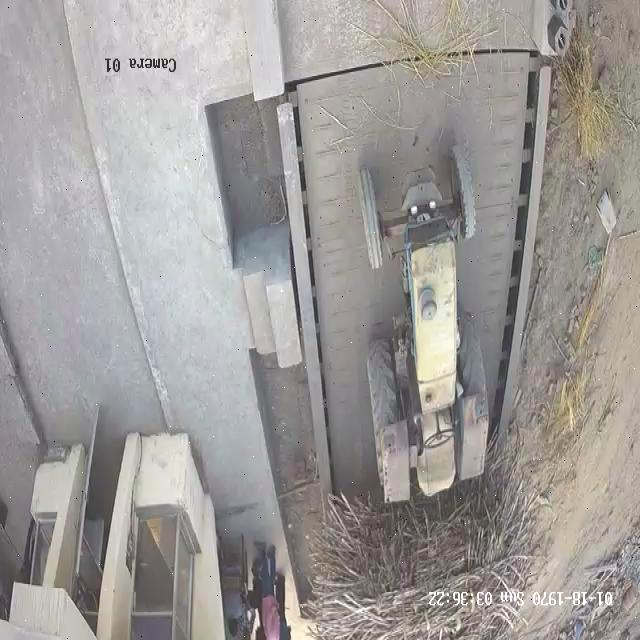Tratores - v5 YOLO V8L 2024-11-13: (348, 146, 496, 506)
